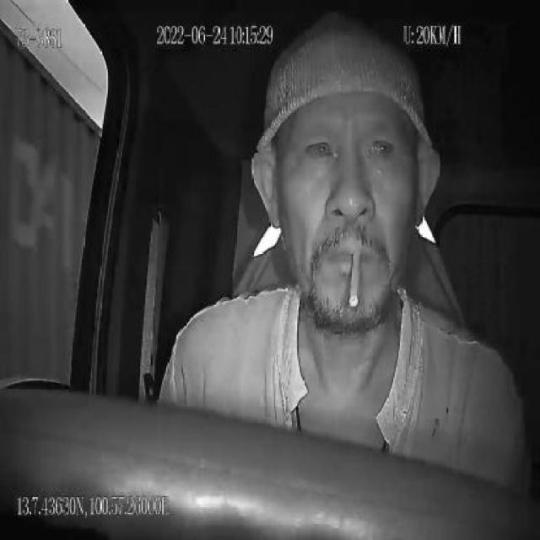smoking: (350, 245, 364, 308)
